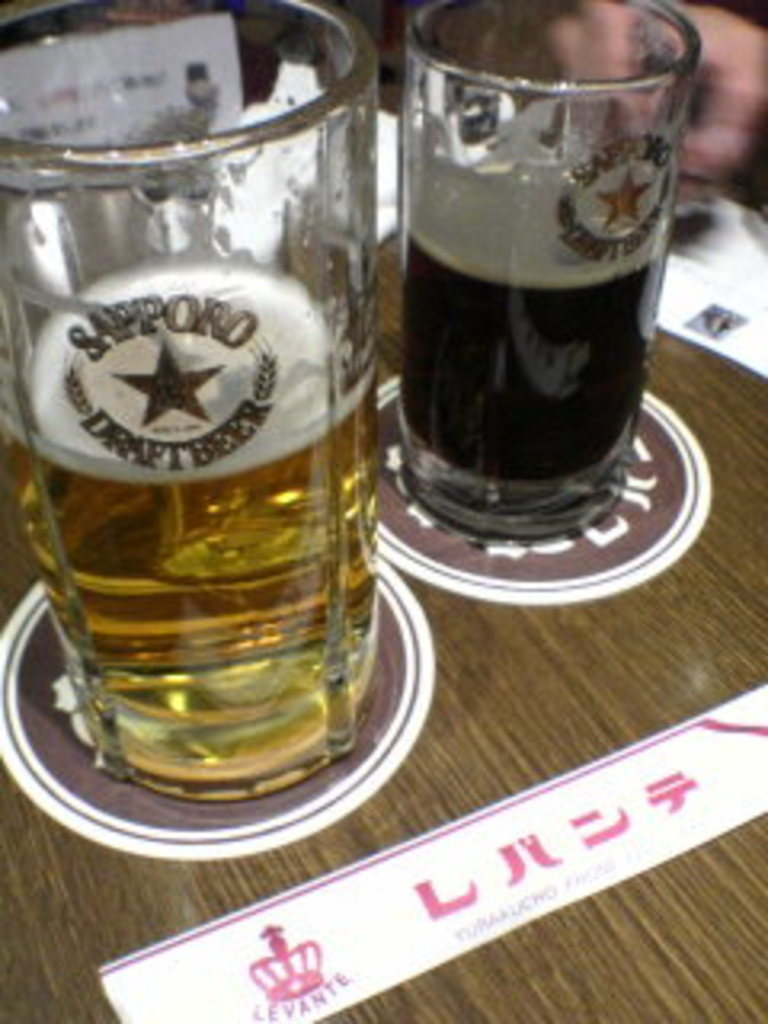Beer: (12, 268, 377, 803)
